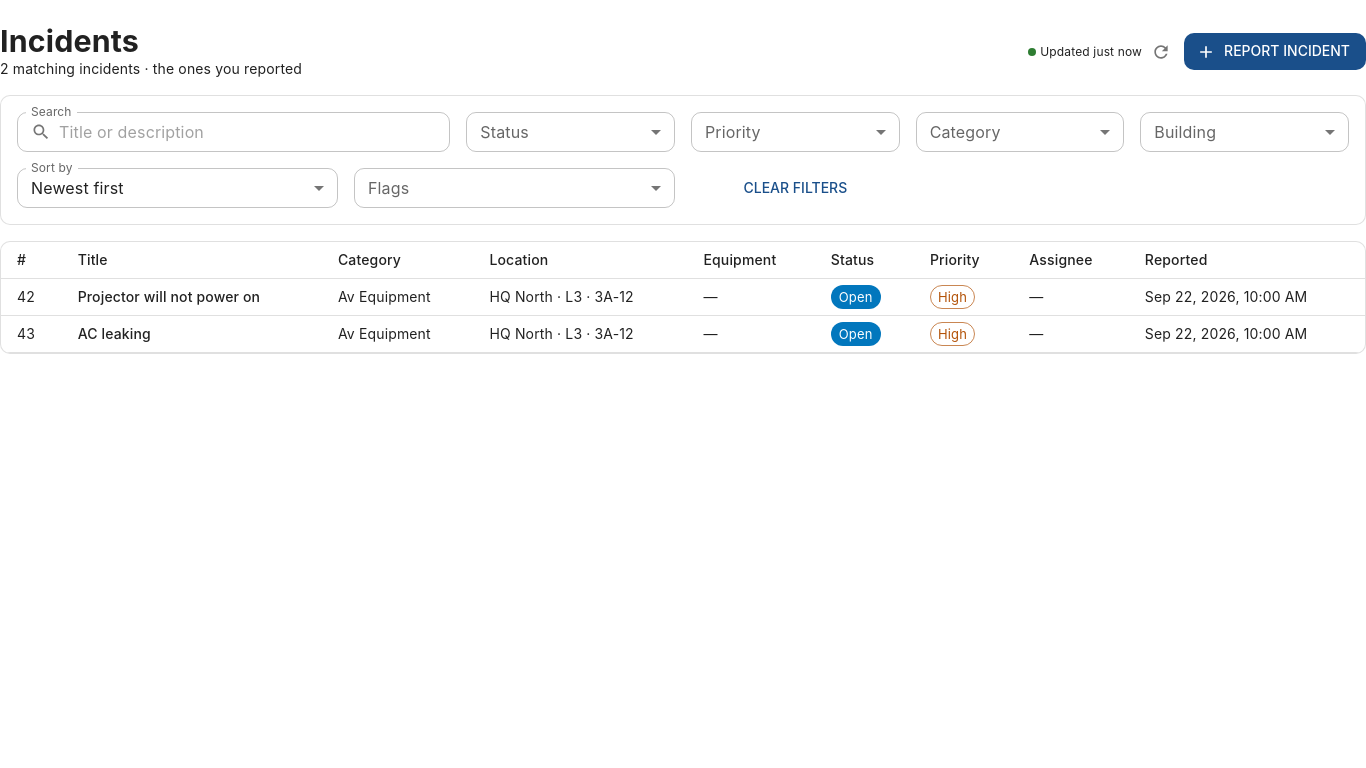
reporting an incident › posts the incident and refreshes the list
expect the text "Projector will not power on" is shown: met, box [78,288,260,308]
Click the button "Report incident": (1275, 52) [1184,34,1365,70]
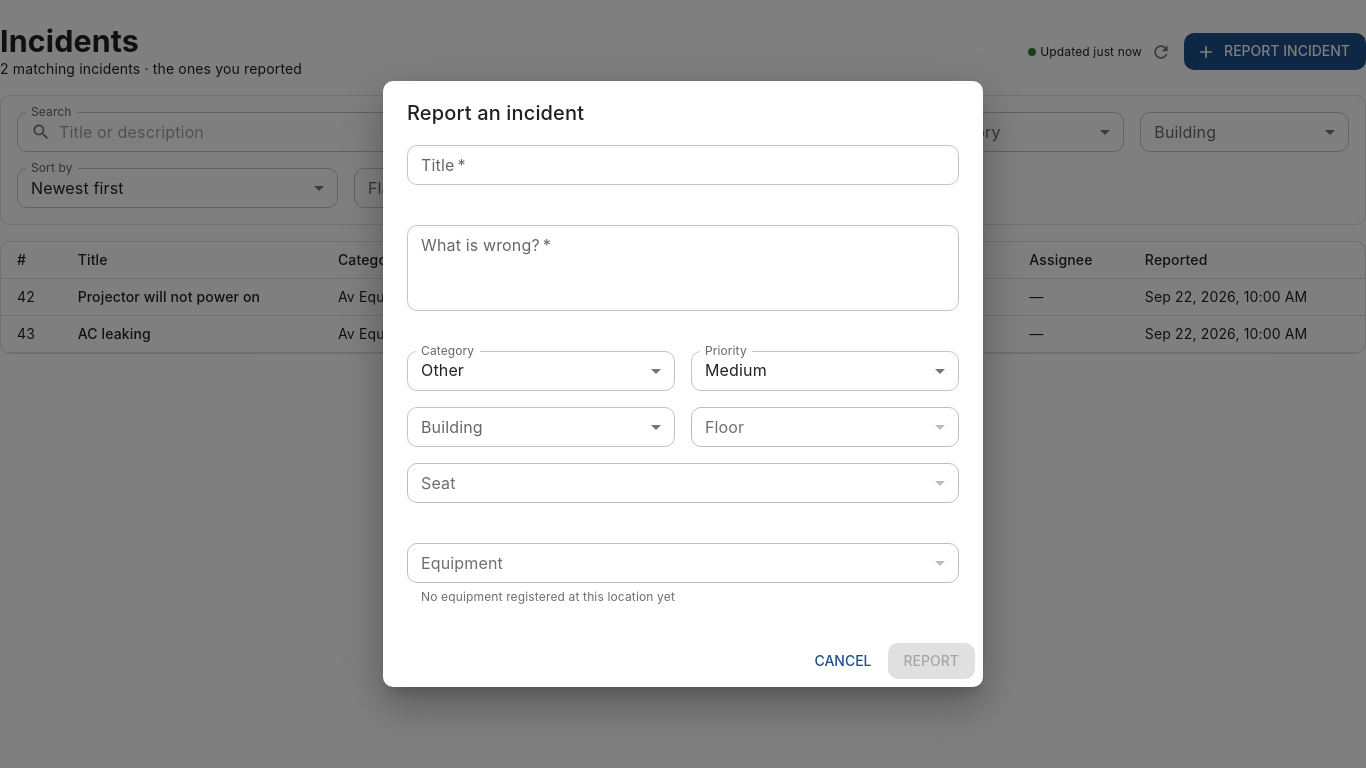
In the field labelled "Title *": (683, 165) [407,145,959,185], type "Desk light flickering"
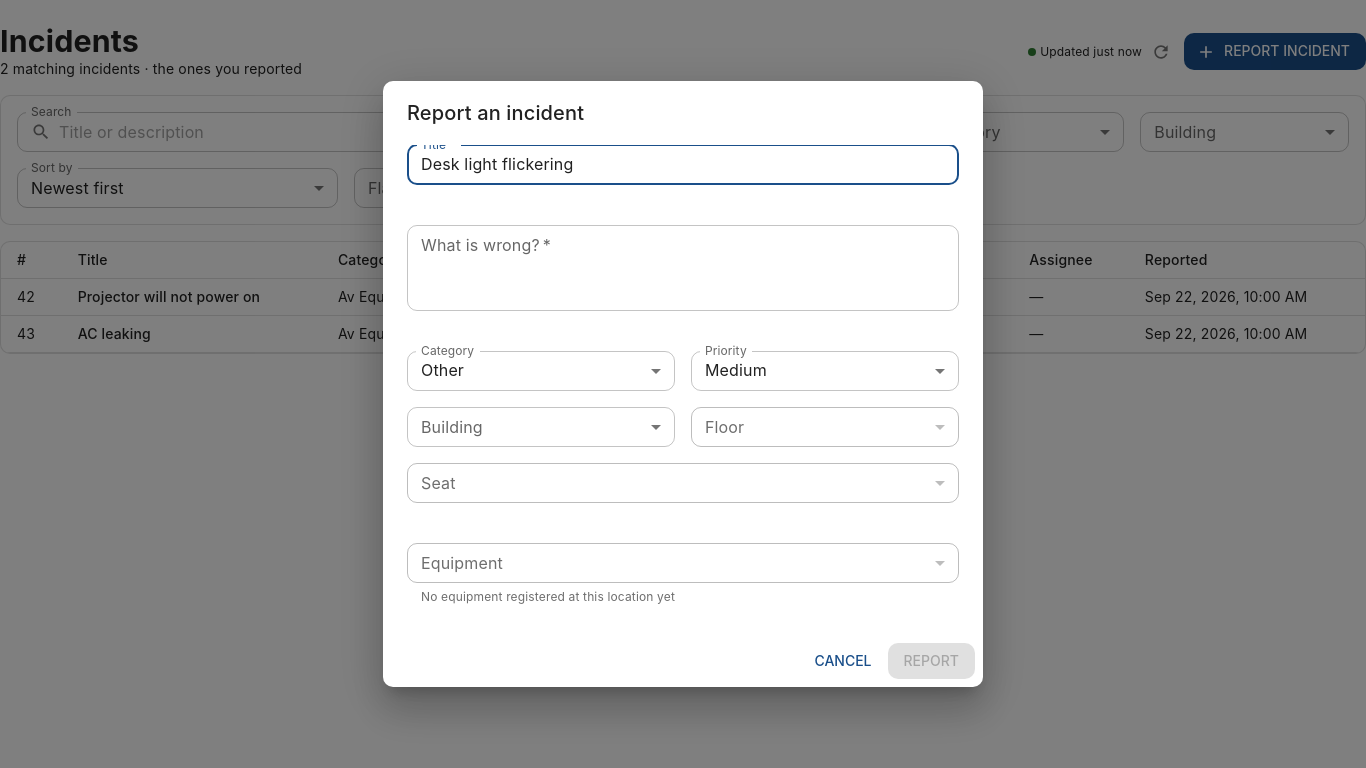
In the text box labelled "What is wrong? *": (683, 268) [421,233,945,302], type "It flickers all afternoon."
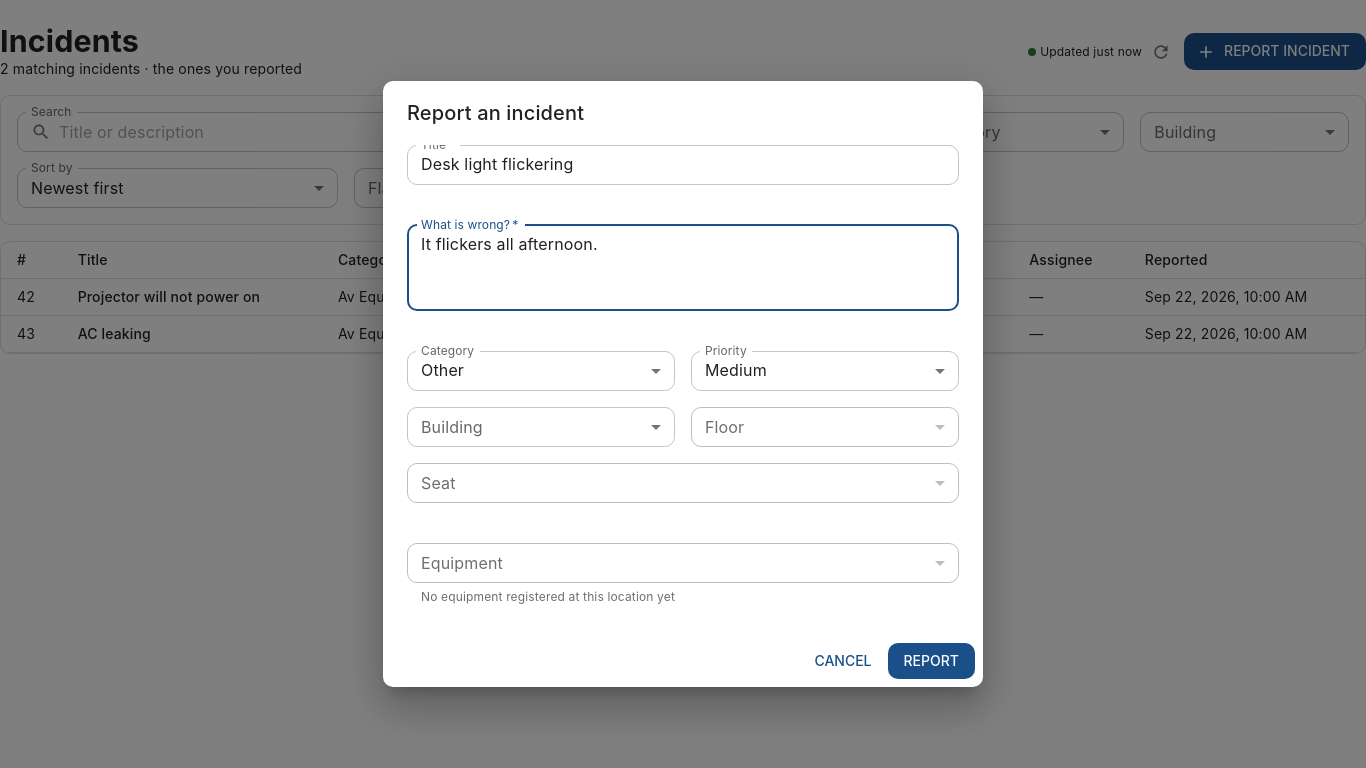
Click the button "Report": (931, 661) [888,643,975,679]
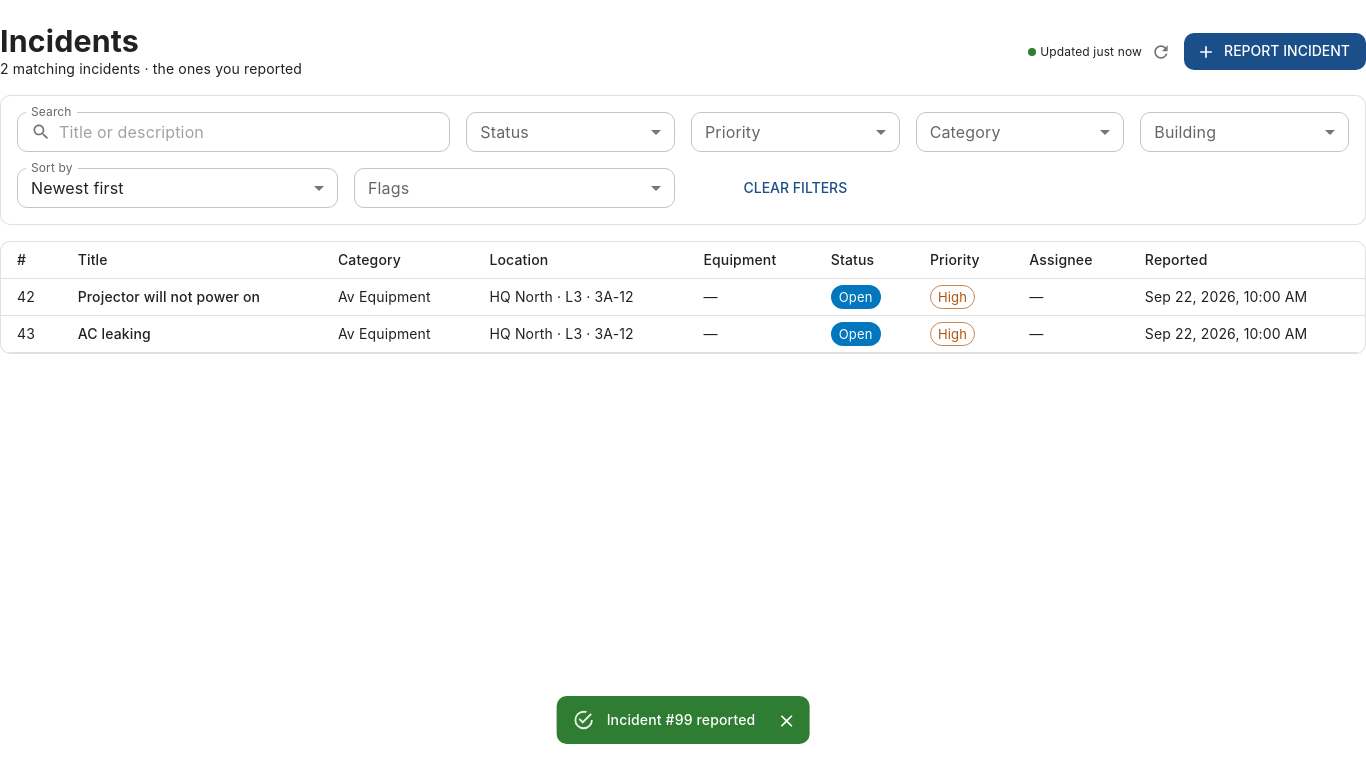
expect the text "Incident #99 reported" is shown: met, box [607,711,755,728]
